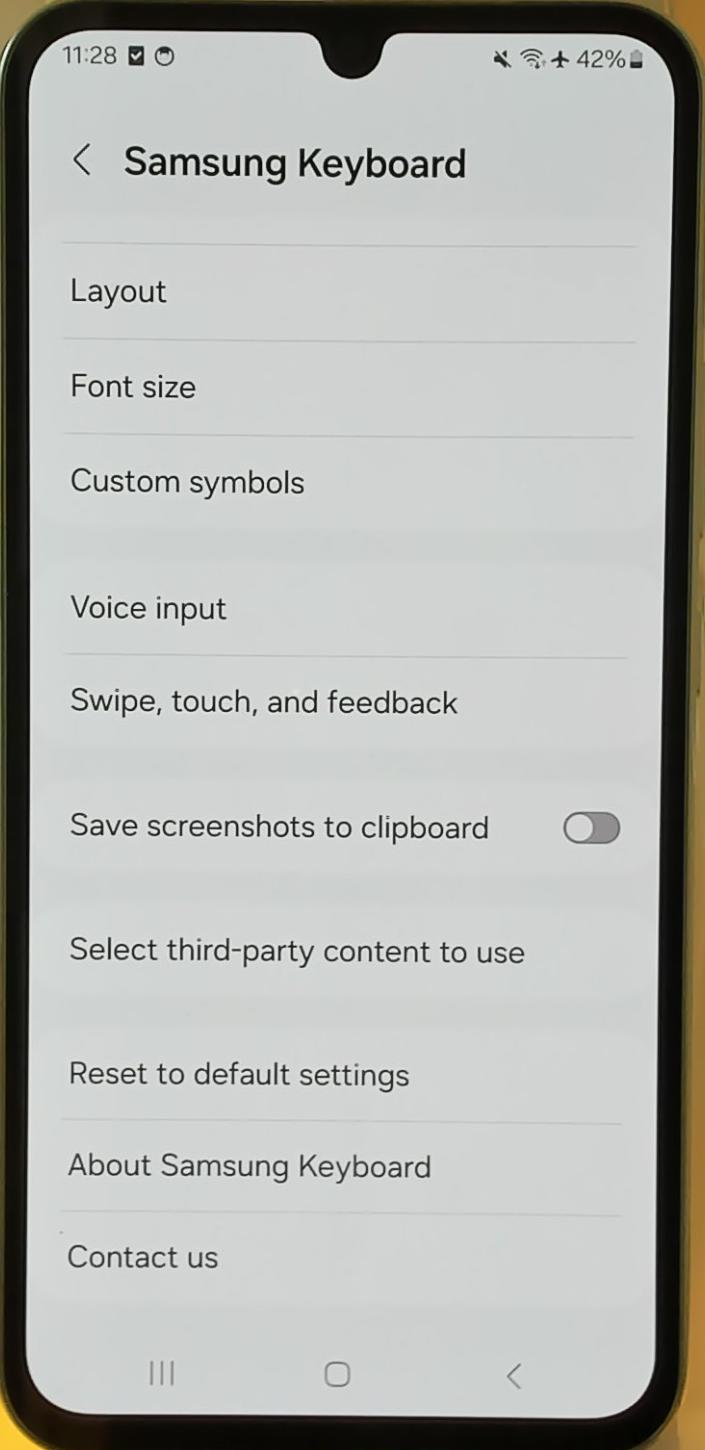Checkbox: (46, 770, 640, 876)
CommunBotton: (48, 426, 664, 548), (42, 238, 664, 354), (304, 1338, 362, 1394), (62, 110, 102, 188), (136, 1344, 188, 1394), (492, 1348, 544, 1398)
